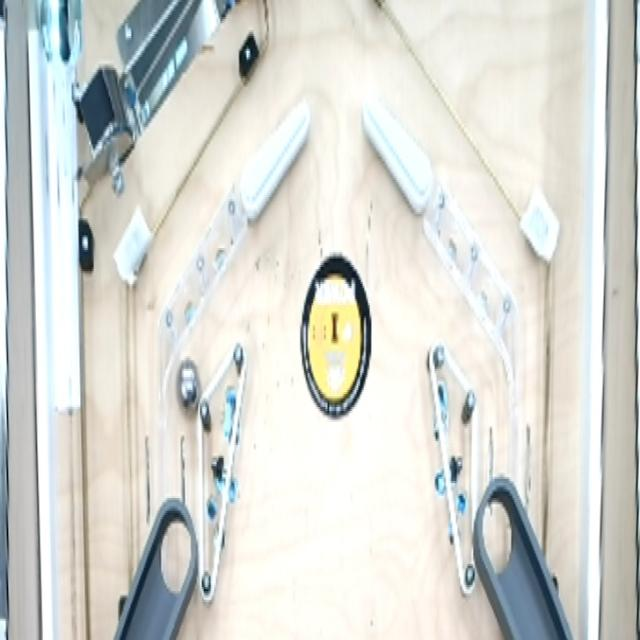ball: (173, 350, 204, 420)
flipper-left: (359, 87, 437, 225)
flipper-right: (238, 91, 313, 226)
